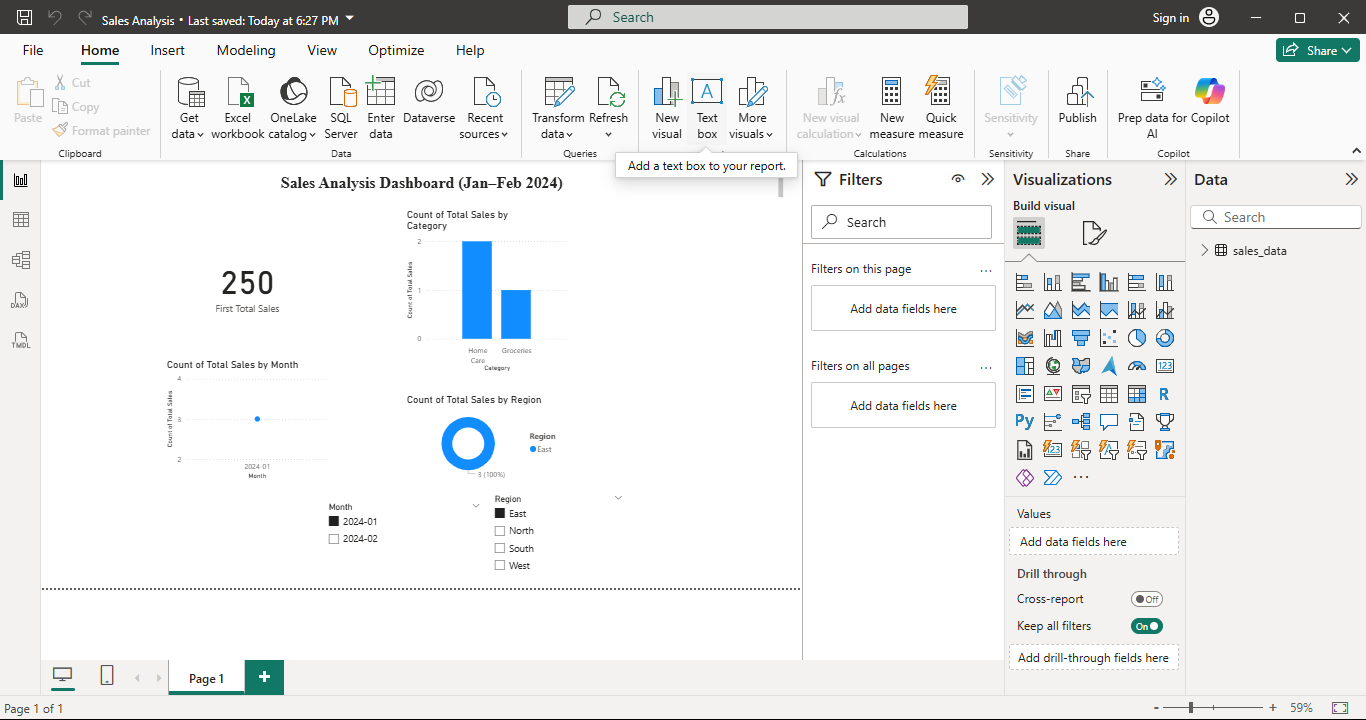

This screenshot's page, from the dashboard's own definition file:
{"tool":"powerbi","page":{"name":"Page 1","canvas":[1280,720],"ordinal":0},"visuals":[{"type":"card","fields":{"Values":["Min(sales_data.Total Sales)"]},"box":[207.3,70.9,280,280],"z":0},{"type":"clusteredColumnChart","fields":{"Category":["sales_data.Category"],"Y":["CountNonNull(sales_data.Total Sales)"]},"box":[610.9,80,280,280],"z":2},{"type":"lineChart","fields":{"Category":["sales_data.Month"],"Y":["CountNonNull(sales_data.Total Sales)"]},"box":[207.3,332.7,280,209.1],"z":3},{"type":"donutChart","fields":{"Category":["sales_data.Region"],"Y":["CountNonNull(sales_data.Total Sales)"]},"box":[610.9,392.7,280,149.1],"z":4},{"type":"slicer","fields":{"Values":["sales_data.Month"]},"box":[470.9,570.9,280,149.1],"z":5},{"type":"slicer","fields":{"Values":["sales_data.Region"]},"box":[750.9,556.4,240,150.9],"z":6},{"type":"textbox","box":[34.5,18.2,1218.2,52.7],"z":7}]}

Visuals, with their boxes on the page's 1280x720 design canvas (x1, y1, x2, y2). These are canvas units, not pixel positions in the 1366x720 screenshot, which may show the page scaled, cropped or inside an application window:
card - Min(sales_data.Total Sales): {"x1": 207, "y1": 71, "x2": 487, "y2": 351}
clusteredColumnChart - sales_data.Category x CountNonNull(sales_data.Total Sales): {"x1": 611, "y1": 80, "x2": 891, "y2": 360}
lineChart - sales_data.Month x CountNonNull(sales_data.Total Sales): {"x1": 207, "y1": 333, "x2": 487, "y2": 542}
donutChart - sales_data.Region x CountNonNull(sales_data.Total Sales): {"x1": 611, "y1": 393, "x2": 891, "y2": 542}
slicer - sales_data.Month: {"x1": 471, "y1": 571, "x2": 751, "y2": 720}
slicer - sales_data.Region: {"x1": 751, "y1": 556, "x2": 991, "y2": 707}
textbox: {"x1": 34, "y1": 18, "x2": 1253, "y2": 71}
